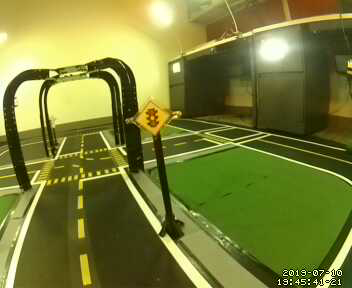Traffic light sign: (134, 101, 173, 137)
